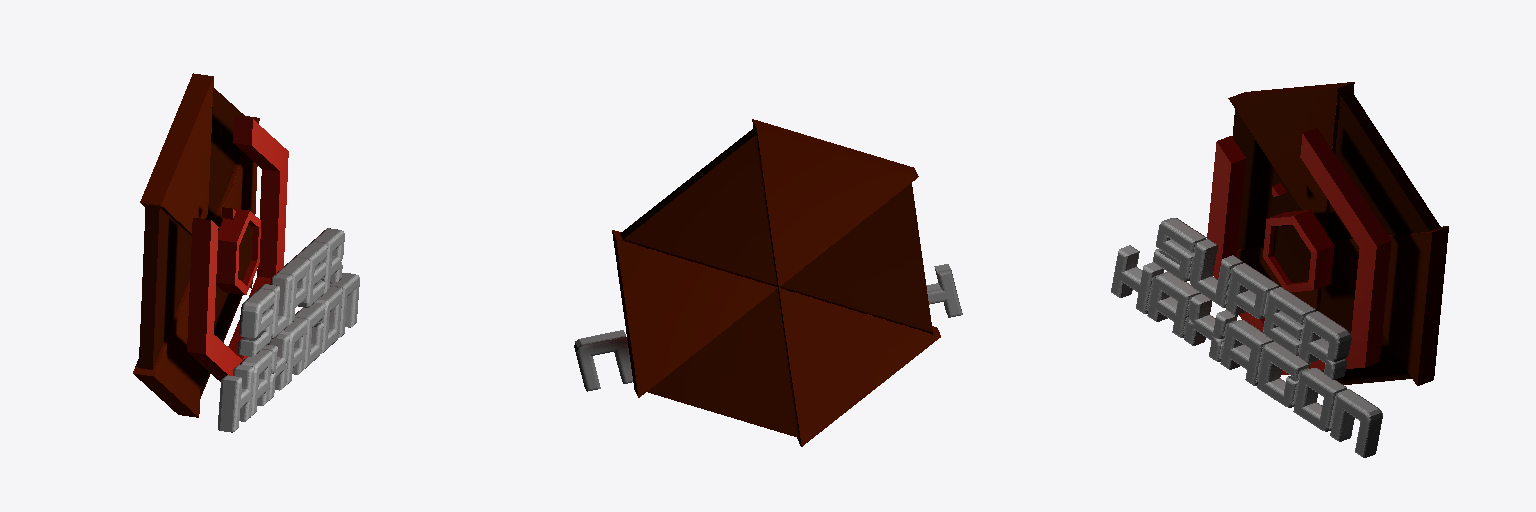
3 views of the same model, side by side, from view 1: azimuth 30°, elevation 25°; view 2: azimuth 150°, elevation 25°; view 3: azimuth 270°, elevation 25° (orthographic).
Parts seen in each view (by area): view 1: COMMON; view 2: COMMON; view 3: COMMON.
Boxes of the visible parts, <box> form: COMMON: <box>133,73,359,432</box>; COMMON: <box>574,119,962,446</box>; COMMON: <box>1111,82,1448,457</box>.
Size of the model in its own units: 14.01 by 14.58 by 13.83.
1 materials, 1 textured.